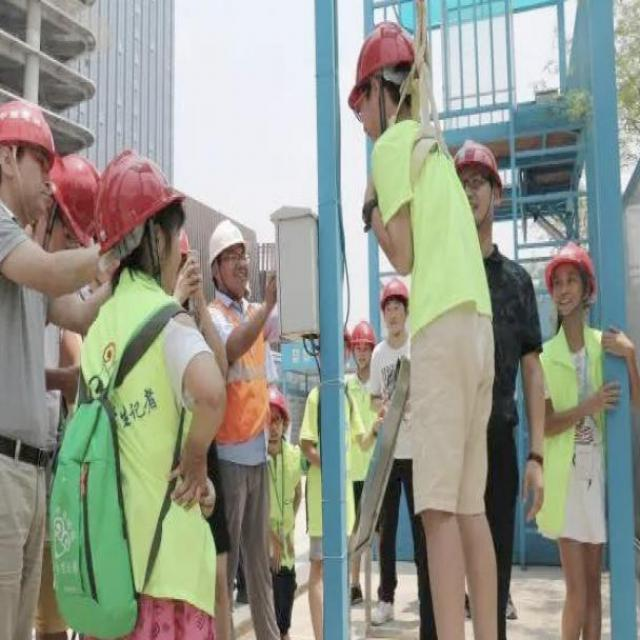helmet: (0, 68, 178, 264), (342, 18, 425, 134), (539, 227, 612, 320), (447, 134, 500, 258), (195, 216, 250, 298), (373, 262, 418, 356)
vest: (78, 268, 207, 588), (376, 118, 485, 320), (540, 329, 618, 513)
